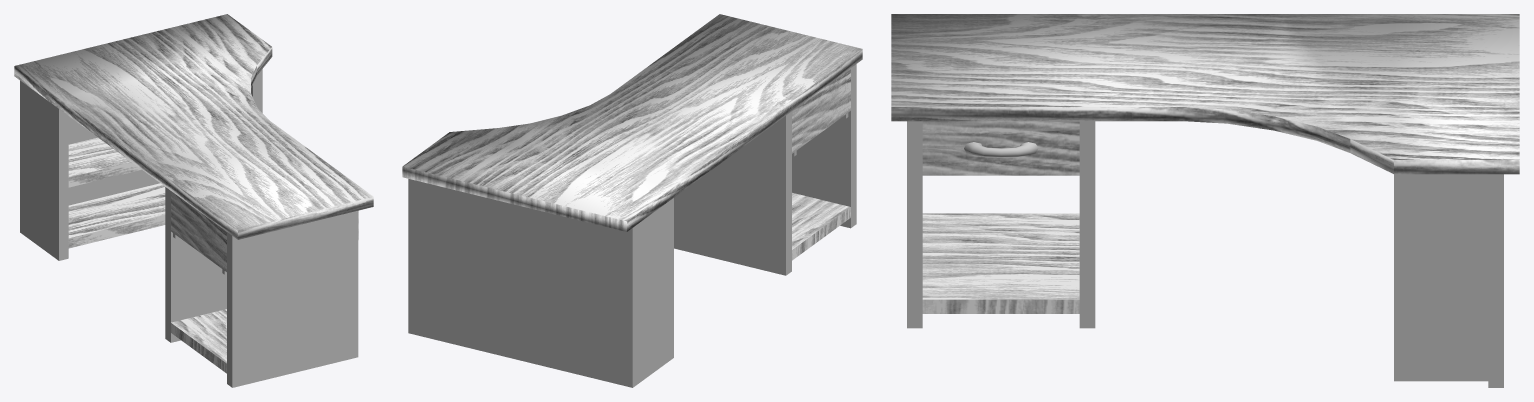
File: Desk2.fbx
3 views of the same model, side by side, from view 1: azimuth 30°, elevation 25°; view 2: azimuth 150°, elevation 25°; view 3: azimuth 270°, elevation 25° (orthographic). The views are drawn at different scales.
Visible parts, largest first — view 1: Desk2; view 2: Desk2; view 3: Desk2.
Part boxes in pixels (x1,y1,x2,y2): Desk2: (14, 14, 373, 387); Desk2: (402, 14, 862, 387); Desk2: (891, 14, 1519, 387).
Bounding box in the file's own units: 1.1 × 0.8 × 2.
